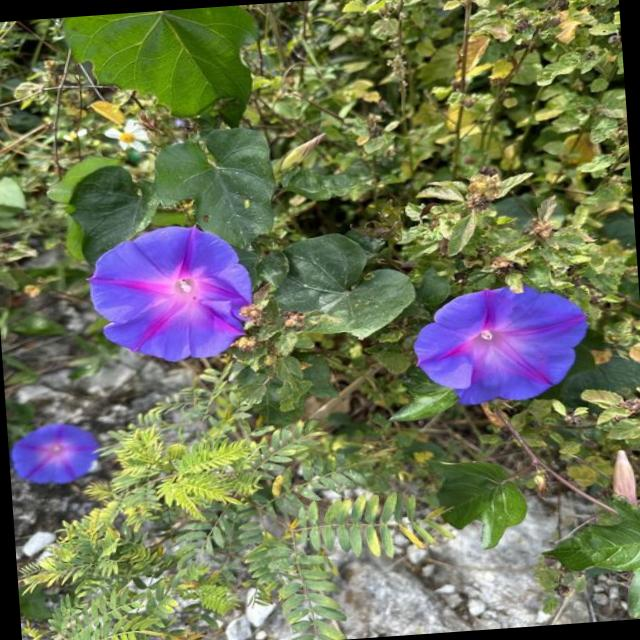ipomoea: (79, 218, 261, 370), (405, 278, 596, 412), (8, 418, 106, 490)
